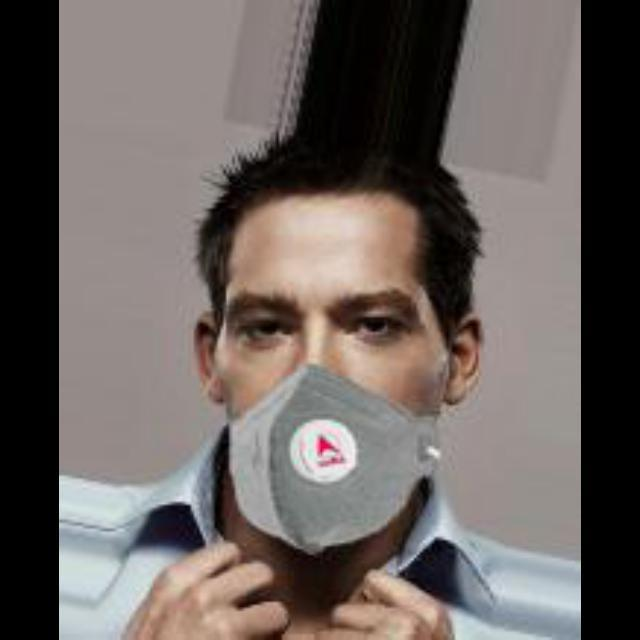suspicion: (105, 106, 483, 548)
